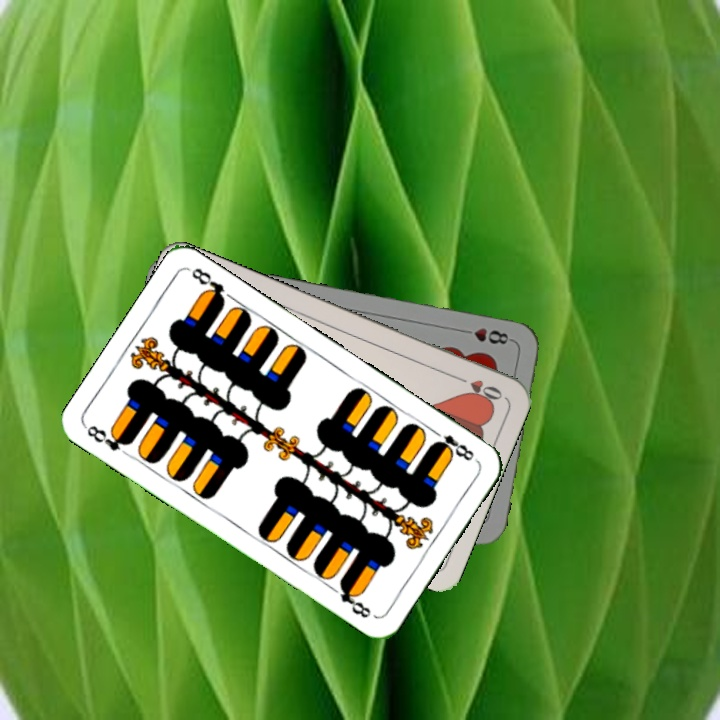E8: (427, 425, 477, 464), (82, 421, 135, 454)
H8: (456, 324, 515, 347)
HO: (450, 371, 505, 405)
